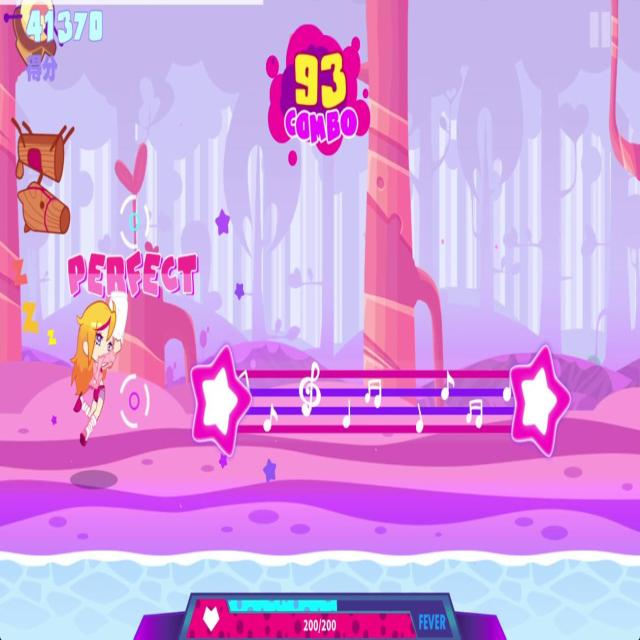hold: (185, 338, 574, 464)
